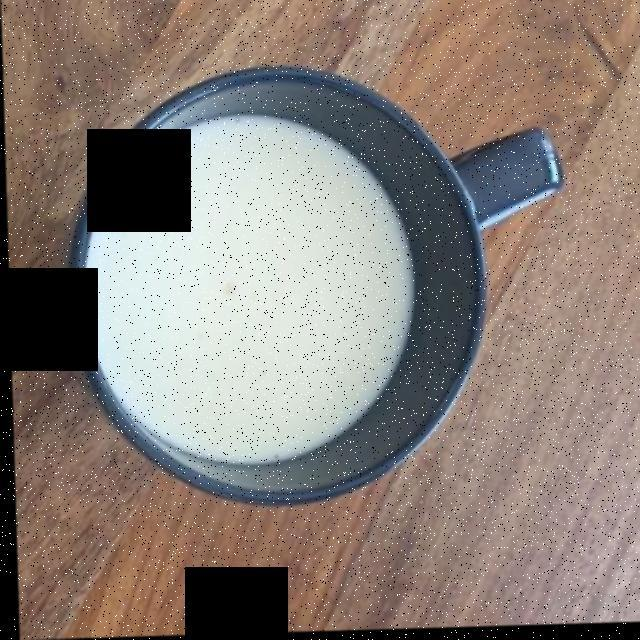milk: (92, 119, 408, 463)
